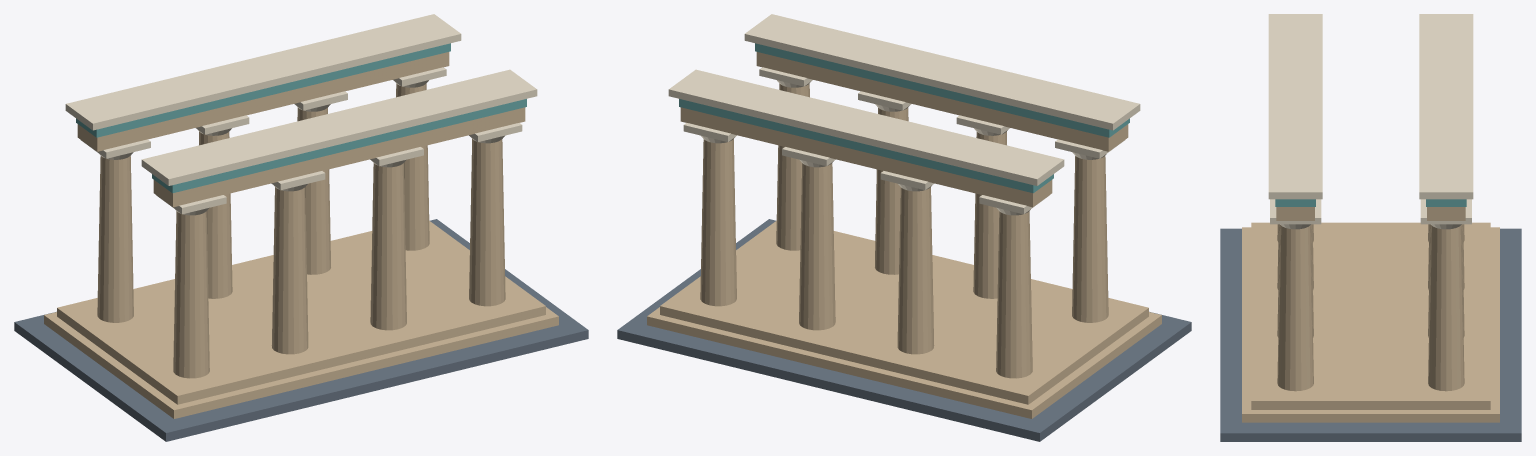
Rendered from sample.glb.
The picture shows the model from 3 angles, left to right: view 1: azimuth 30°, elevation 25°; view 2: azimuth 150°, elevation 25°; view 3: azimuth 270°, elevation 25°; orthographic projection.
Parts seen in each view (by area): view 1: stylobate_1, DISPLAY_plinth, cornice.001, cornice, stylobate_0, tapered_shaft, tapered_shaft.002, tapered_shaft.004, tapered_shaft.006, tapered_shaft.001, architrave, architrave.001 (+5 smaller); view 2: stylobate_1, DISPLAY_plinth, cornice, cornice.001, stylobate_0, tapered_shaft.001, tapered_shaft.003, tapered_shaft.005, tapered_shaft.007, tapered_shaft, architrave, architrave.001 (+5 smaller); view 3: stylobate_1, DISPLAY_plinth, cornice, cornice.001, stylobate_0, tapered_shaft.006, tapered_shaft.007, architrave, architrave.001, capital_abacus.006, capital_abacus.007, tapered_shaft.004 (+3 smaller).
Boxes of the visible parts, x1,y1,x2,y2 form: stylobate_1: (57,221,545,404); DISPLAY_plinth: (14,219,588,441); cornice.001: (65,14,461,130); cornice: (141,69,537,185); stylobate_0: (44,307,558,418); tapered_shaft: (173,211,209,378); tapered_shaft.002: (271,187,308,354); tapered_shaft.004: (370,163,406,330); tapered_shaft.006: (469,139,505,306); tapered_shaft.001: (97,156,133,322); architrave: (153,107,525,207); architrave.001: (77,52,449,151); stylobate_1: (660,221,1148,404); DISPLAY_plinth: (617,219,1191,441); cornice: (744,14,1140,130); cornice.001: (668,69,1064,185); stylobate_0: (647,307,1161,418); tapered_shaft.001: (996,211,1032,378); tapered_shaft.003: (897,187,934,354); tapered_shaft.005: (799,163,835,330); tapered_shaft.007: (700,139,736,306); tapered_shaft: (1072,156,1108,322); architrave: (756,52,1128,151); architrave.001: (680,107,1052,207); stylobate_1: (1251,222,1490,409); DISPLAY_plinth: (1220,228,1521,441); cornice: (1268,14,1322,199); cornice.001: (1419,14,1473,199); stylobate_0: (1242,227,1499,422); tapered_shaft.006: (1277,225,1313,391); tapered_shaft.007: (1428,225,1464,391); architrave: (1276,207,1314,220); architrave.001: (1427,207,1465,220); capital_abacus.006: (1270,199,1321,224); capital_abacus.007: (1420,199,1471,224); tapered_shaft.004: (1277,224,1313,337).
Bounding box in the file's own units: 9 × 4.85 × 5.6.
